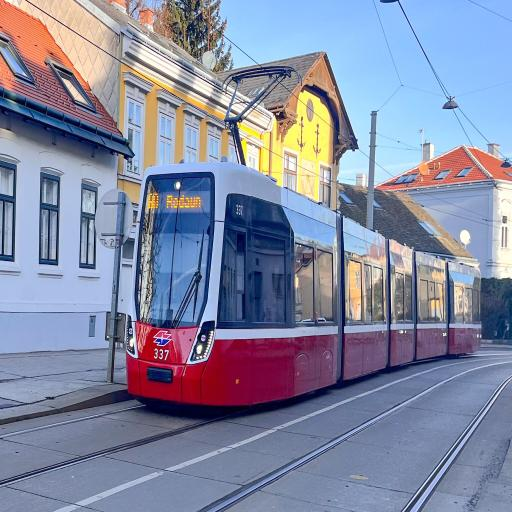Flexity: (127, 162, 484, 416)
